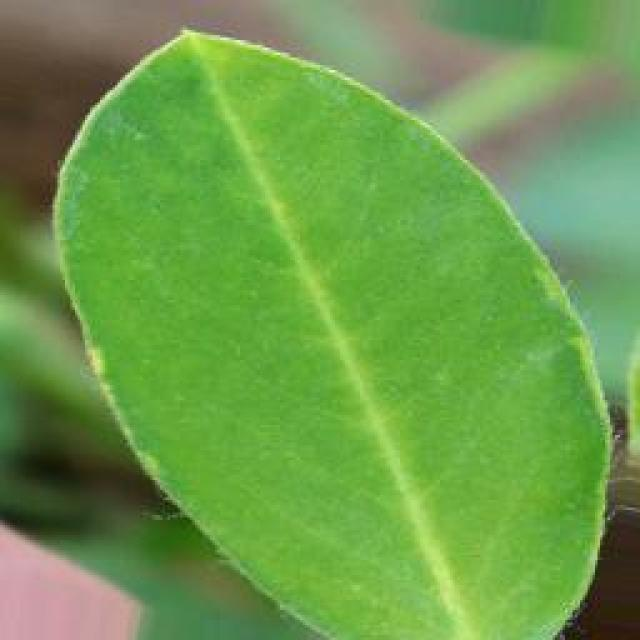Yellow_and_black_sigatoka: (48, 15, 612, 640)
